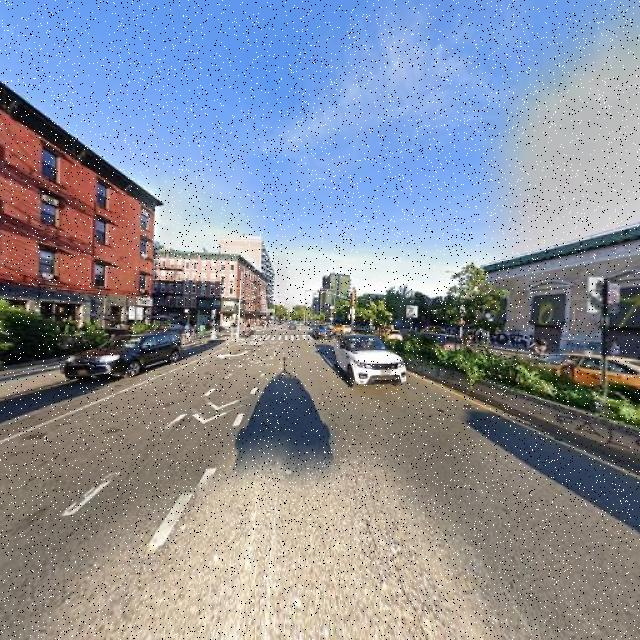Building: (1, 88, 153, 347), (463, 239, 640, 360)
